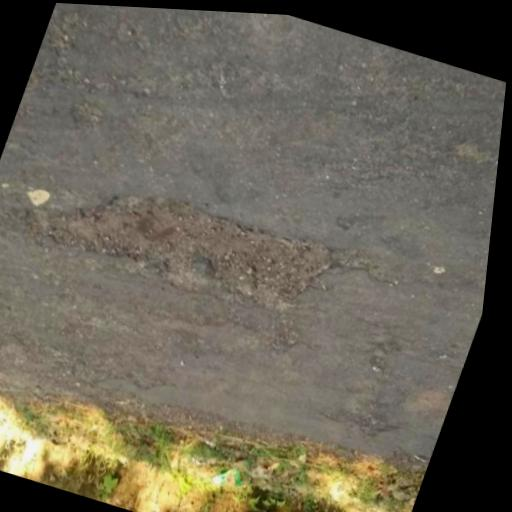pothole: (143, 149, 452, 437)
